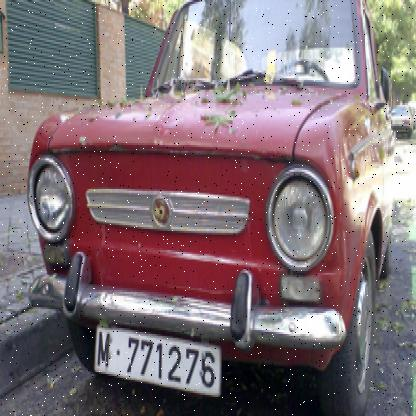licence: (97, 324, 218, 395)
